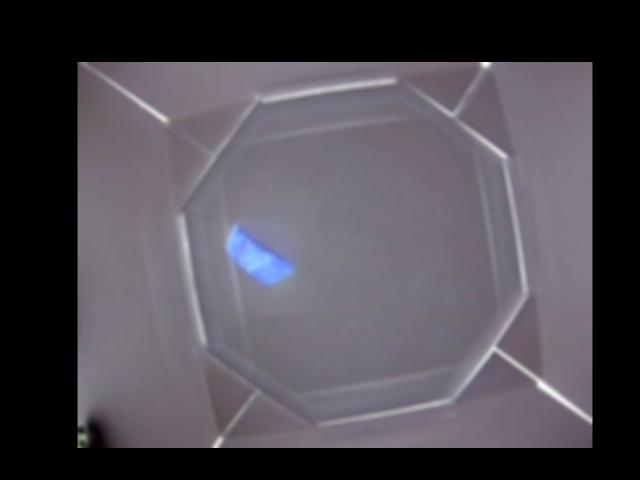Potato: (226, 223, 292, 285)
